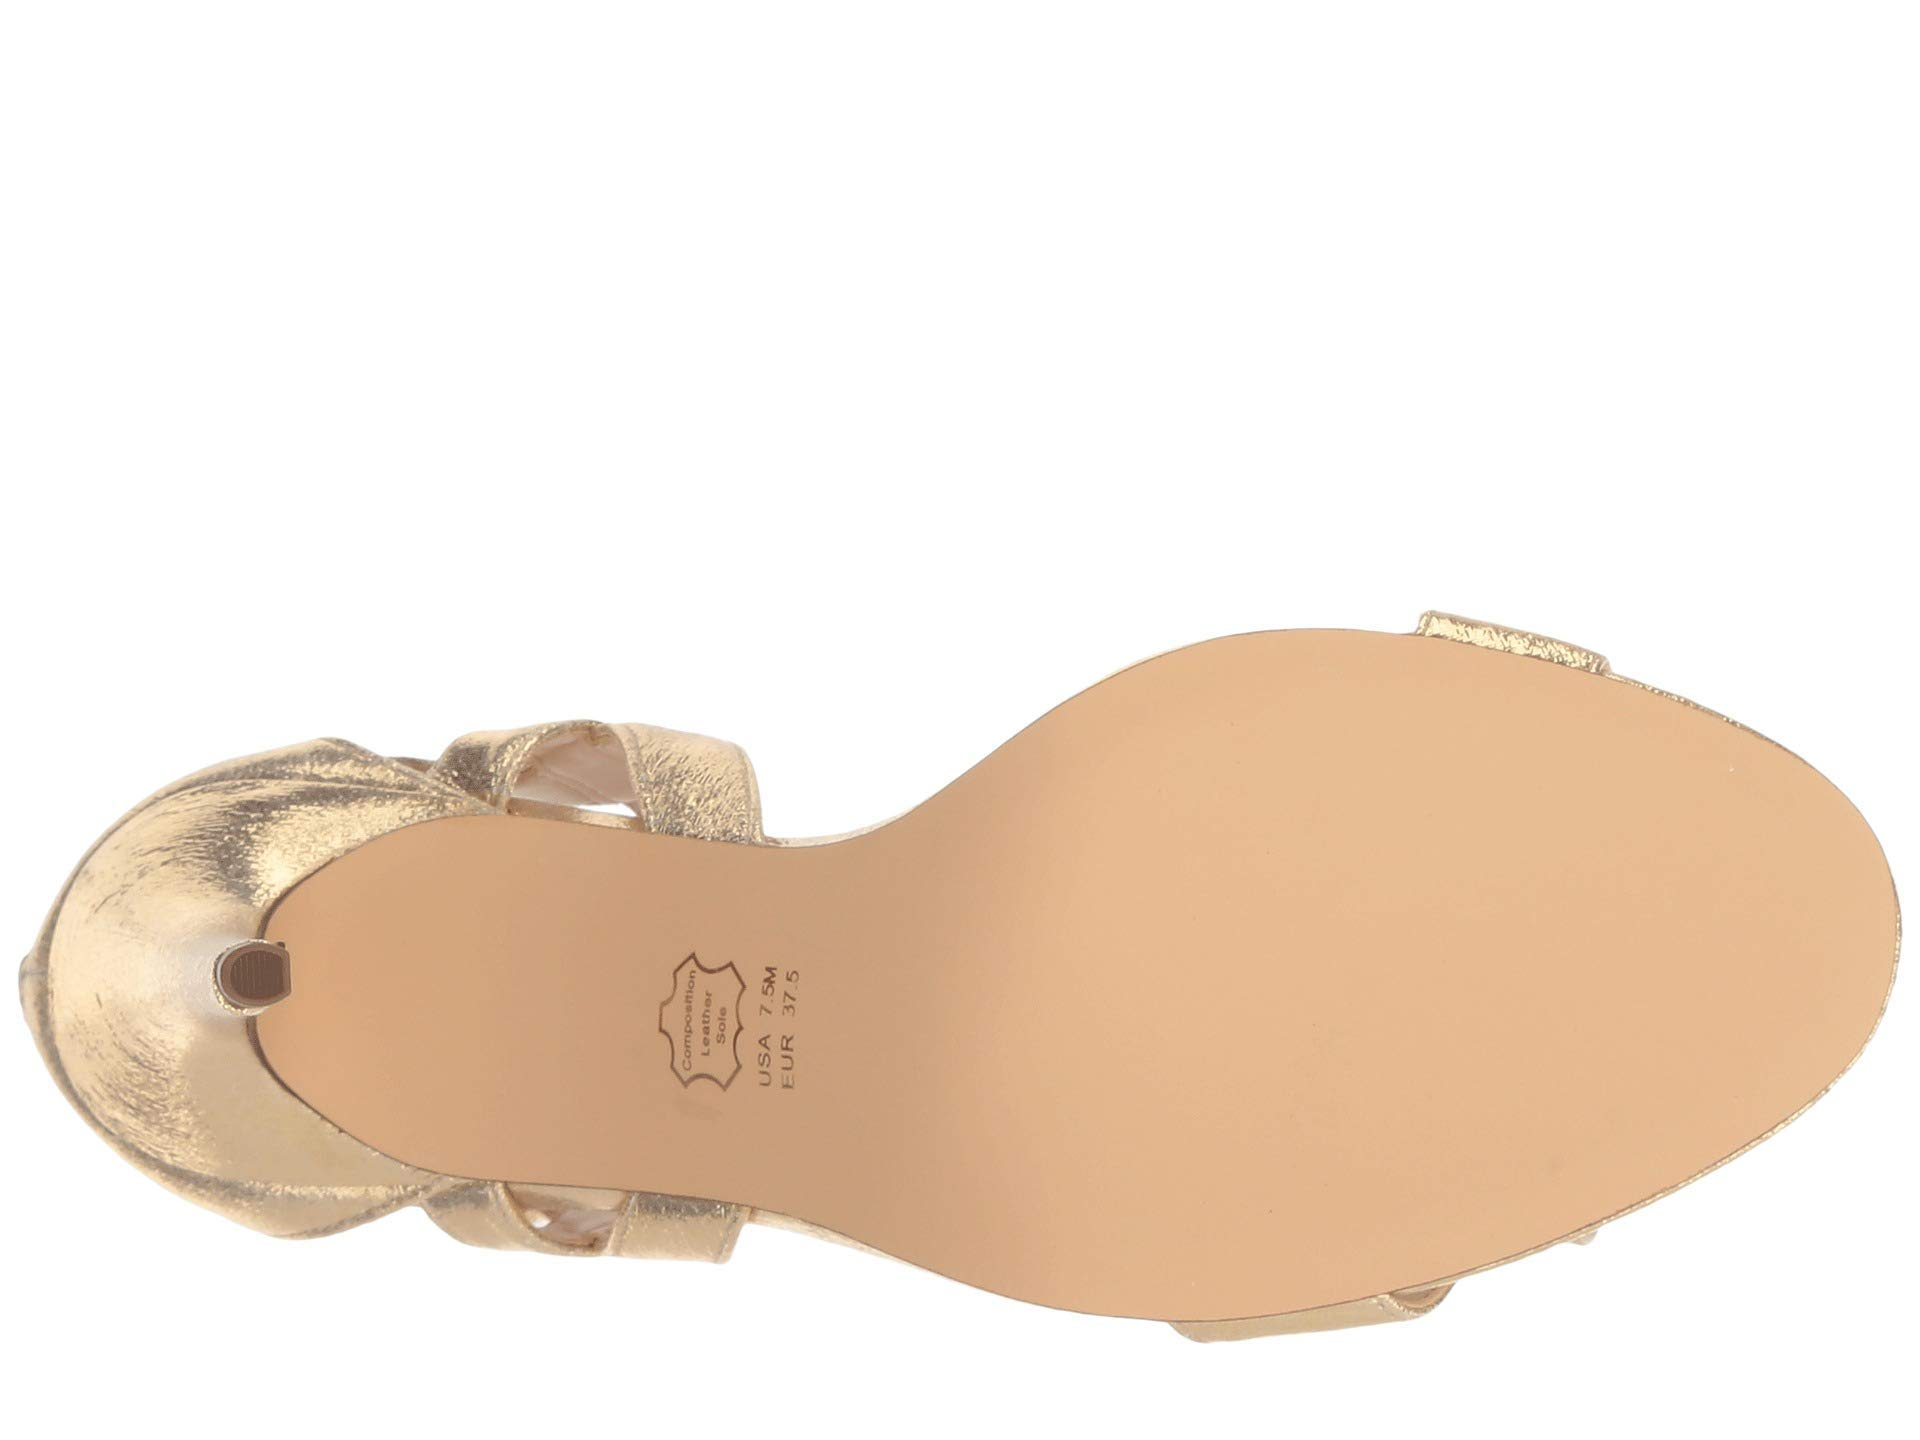exclude: (399, 676, 962, 1330)
